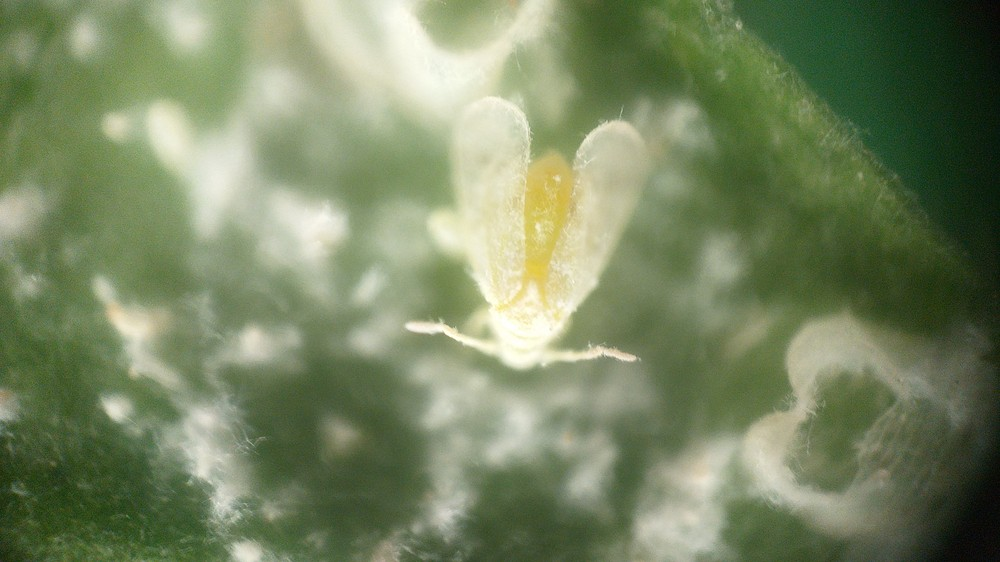Mosca Blanca: (379, 83, 662, 392)
